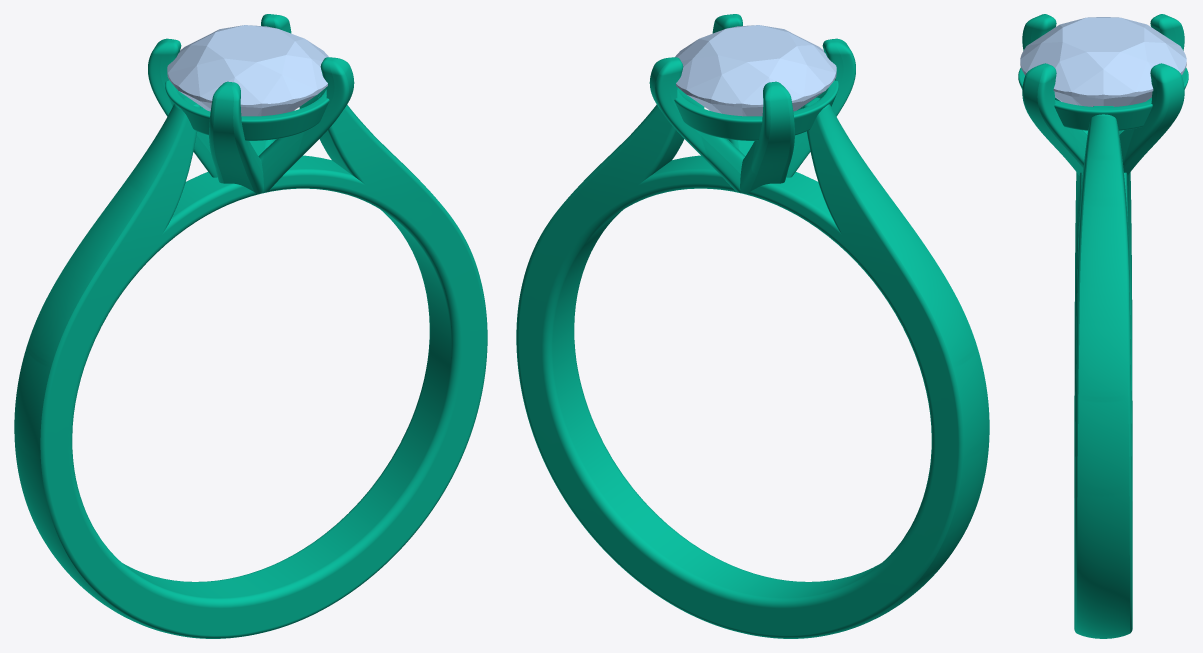
3 views of the same model, side by side, from view 1: azimuth 30°, elevation 25°; view 2: azimuth 150°, elevation 25°; view 3: azimuth 270°, elevation 25° (orthographic).
Parts seen in each view (by area): view 1: VR-70(front).3dm, Diamond_Round, Head Prong (×3), Head Rail; view 2: VR-70(front).3dm, Diamond_Round, Head Prong (×3), Head Rail; view 3: VR-70(front).3dm, Diamond_Round, Head Prong (×4), Head Rail.
Part boxes in pixels (x1,y1,x2,y2): VR-70(front).3dm: (14,97,487,638); Diamond_Round: (167,25,328,116); Head Prong (×3): (148,38,354,193); Head Rail: (165,80,329,140); VR-70(front).3dm: (516,97,989,638); Diamond_Round: (675,25,836,116); Head Prong (×3): (649,38,855,193); Head Rail: (674,80,838,140); VR-70(front).3dm: (1074,106,1132,638); Diamond_Round: (1020,17,1186,106); Head Prong (×4): (1022,14,1184,175); Head Rail: (1018,67,1188,130).
Size of the model in its own units: 2.46 by 3.05 by 0.8108.
